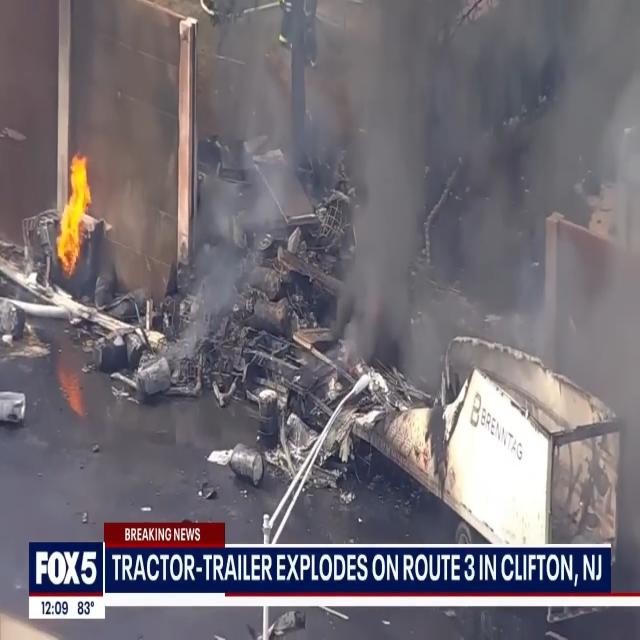fire: (54, 150, 96, 276)
